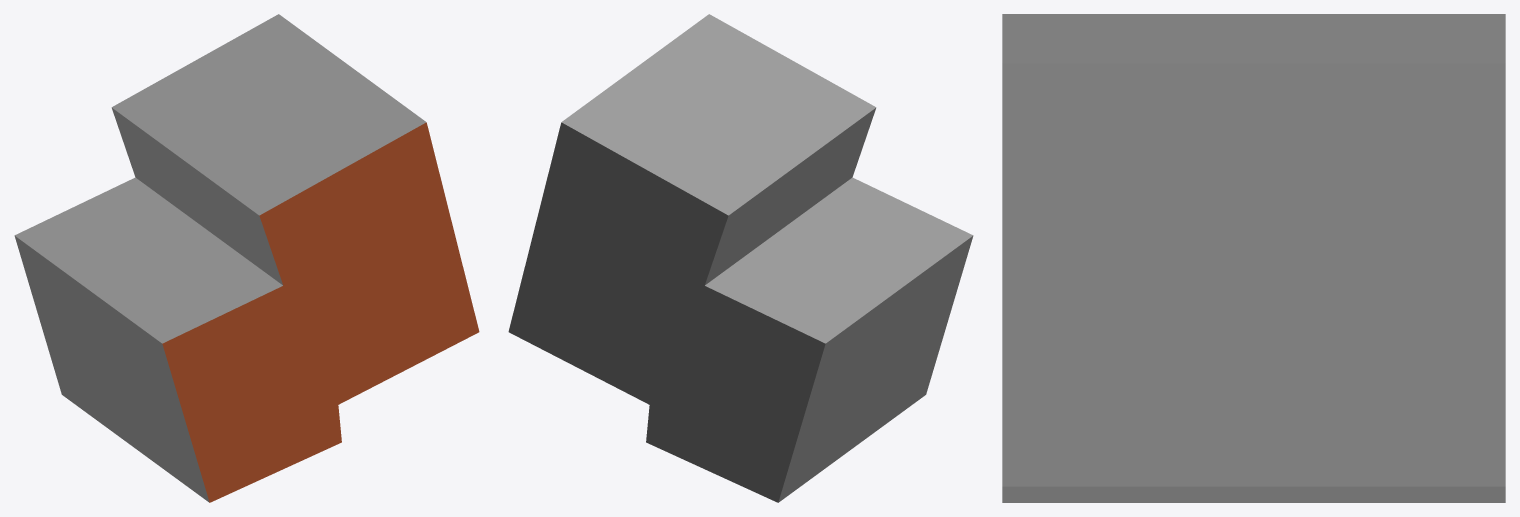
The model's file is construction_2121_assumed_A_Casa_h6m.obj.
3 renders of one model, left to right at view 1: azimuth 30°, elevation 25°; view 2: azimuth 150°, elevation 25°; view 3: azimuth 270°, elevation 25°, orthographic. The views are drawn at different scales.
Parts seen in each view (by area): view 1: construction_2121_assumed_A_Casa; view 2: construction_2121_assumed_A_Casa; view 3: construction_2121_assumed_A_Casa.
Boxes of the visible parts, x1,y1,x2,y2 form: construction_2121_assumed_A_Casa: [14, 14, 479, 502]; construction_2121_assumed_A_Casa: [508, 14, 973, 502]; construction_2121_assumed_A_Casa: [1002, 14, 1505, 502].
Size of the model in its own units: 7.43 by 7.34 by 6.
